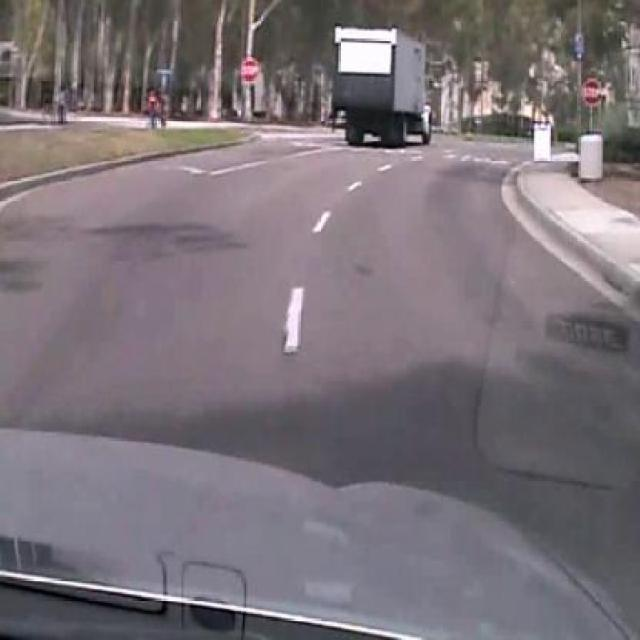stop: (580, 77, 600, 106), (238, 54, 258, 81)
